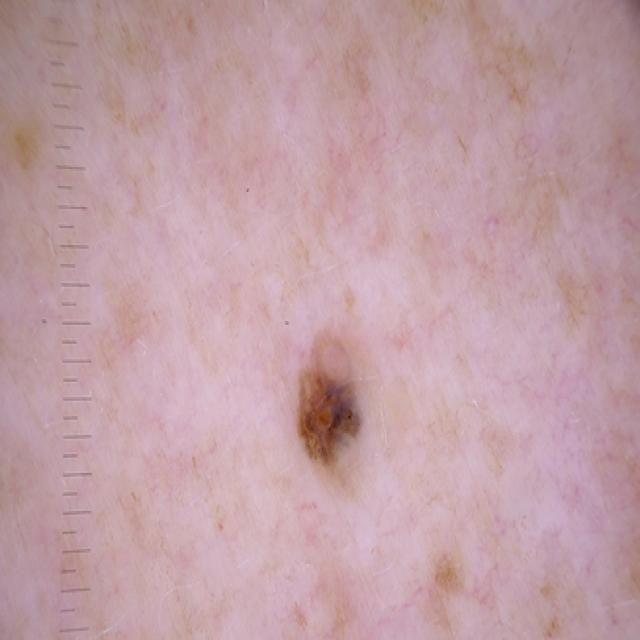Keratosis: (201, 233, 470, 541)
